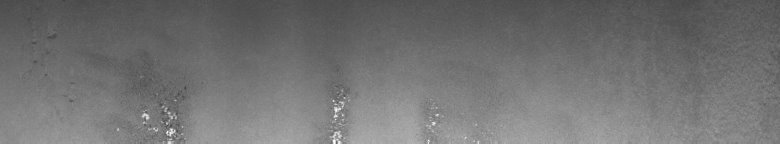hc: (32, 32, 188, 136)
